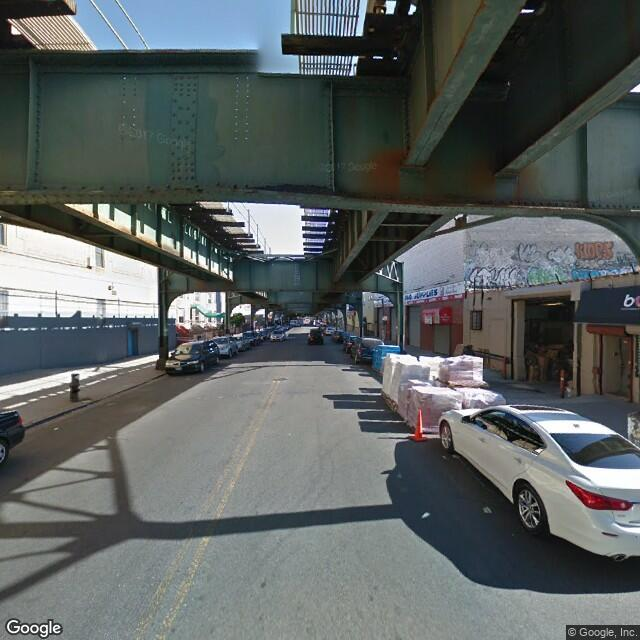litter: (52, 424, 58, 429)
